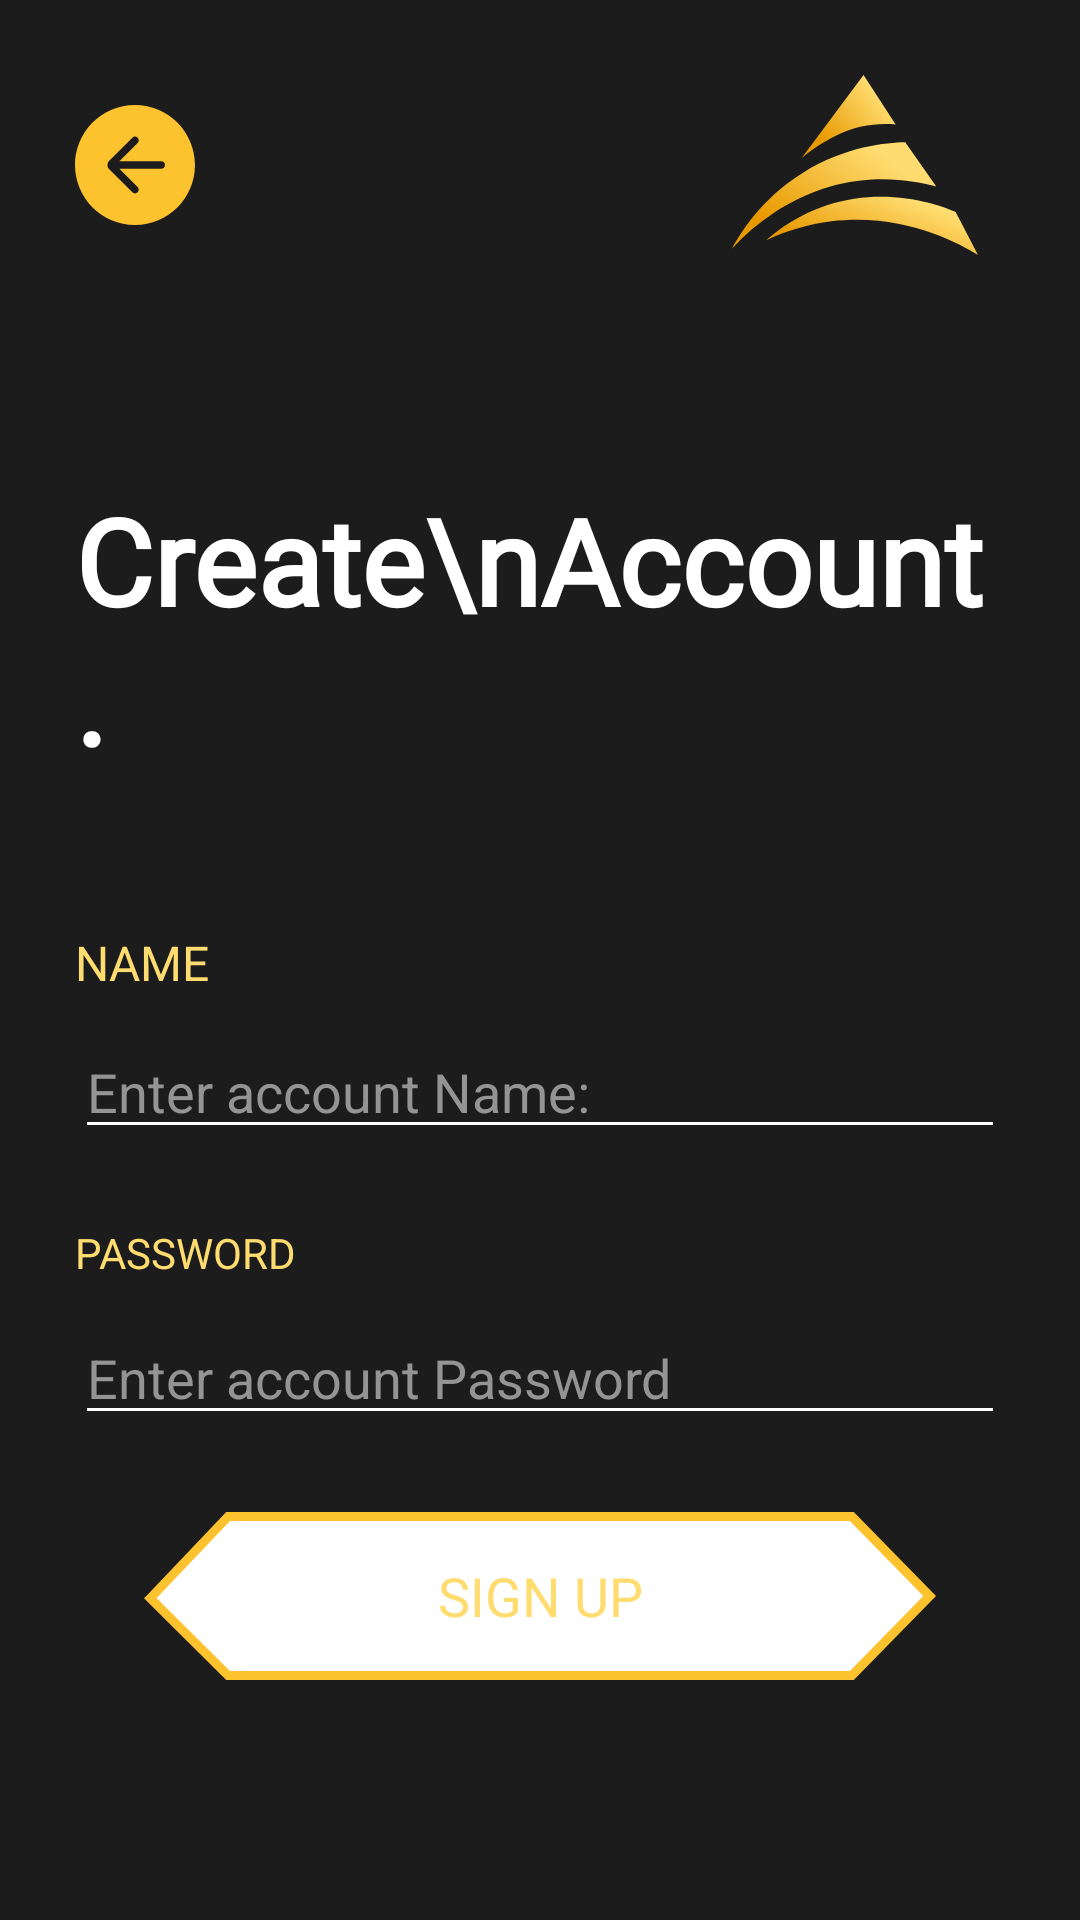

Where icons sit on this 1080×1920 app screen, as Rect(x1, y1, x2, y2):
back: Rect(75, 105, 195, 225)
